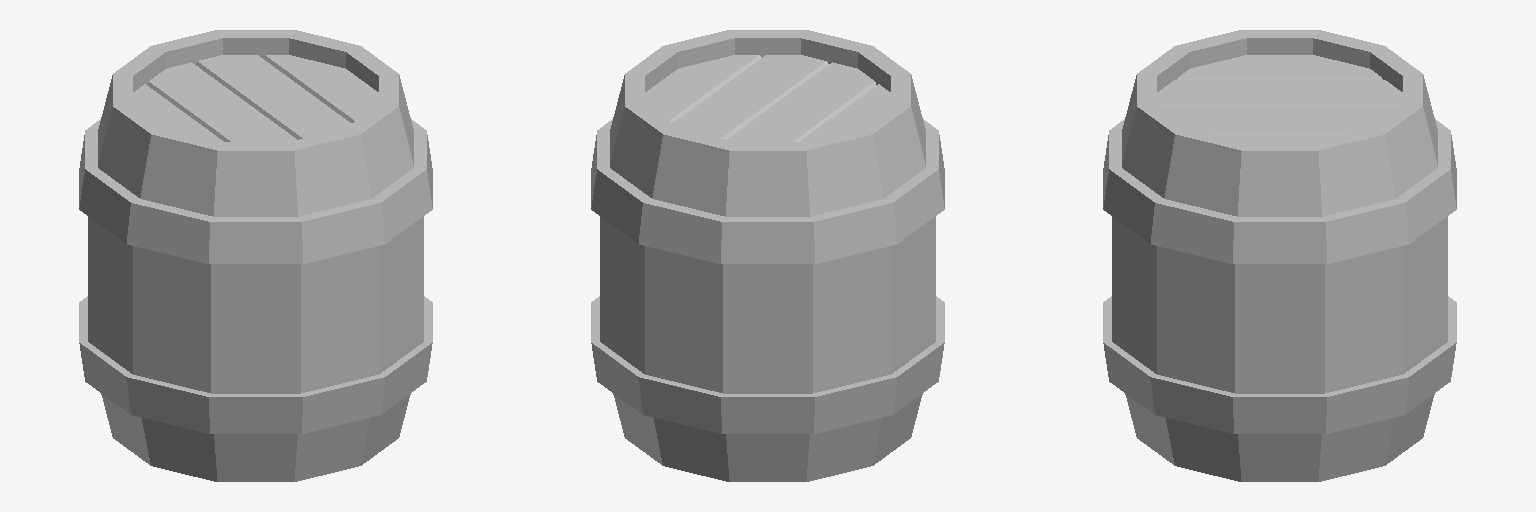
File: Prop_Barrel_1.obj
3 renders of one model, left to right at view 1: azimuth 30°, elevation 25°; view 2: azimuth 150°, elevation 25°; view 3: azimuth 270°, elevation 25°, orthographic.
Visible parts, largest first — view 1: mesh_0; view 2: mesh_0; view 3: mesh_0.
Part boxes in pixels (left/top/right/bottom): mesh_0: left=79, top=30, right=432, bottom=481; mesh_0: left=591, top=30, right=944, bottom=481; mesh_0: left=1103, top=30, right=1456, bottom=481.
Bounding box in the file's own units: 1.18 × 1.22 × 1.18.